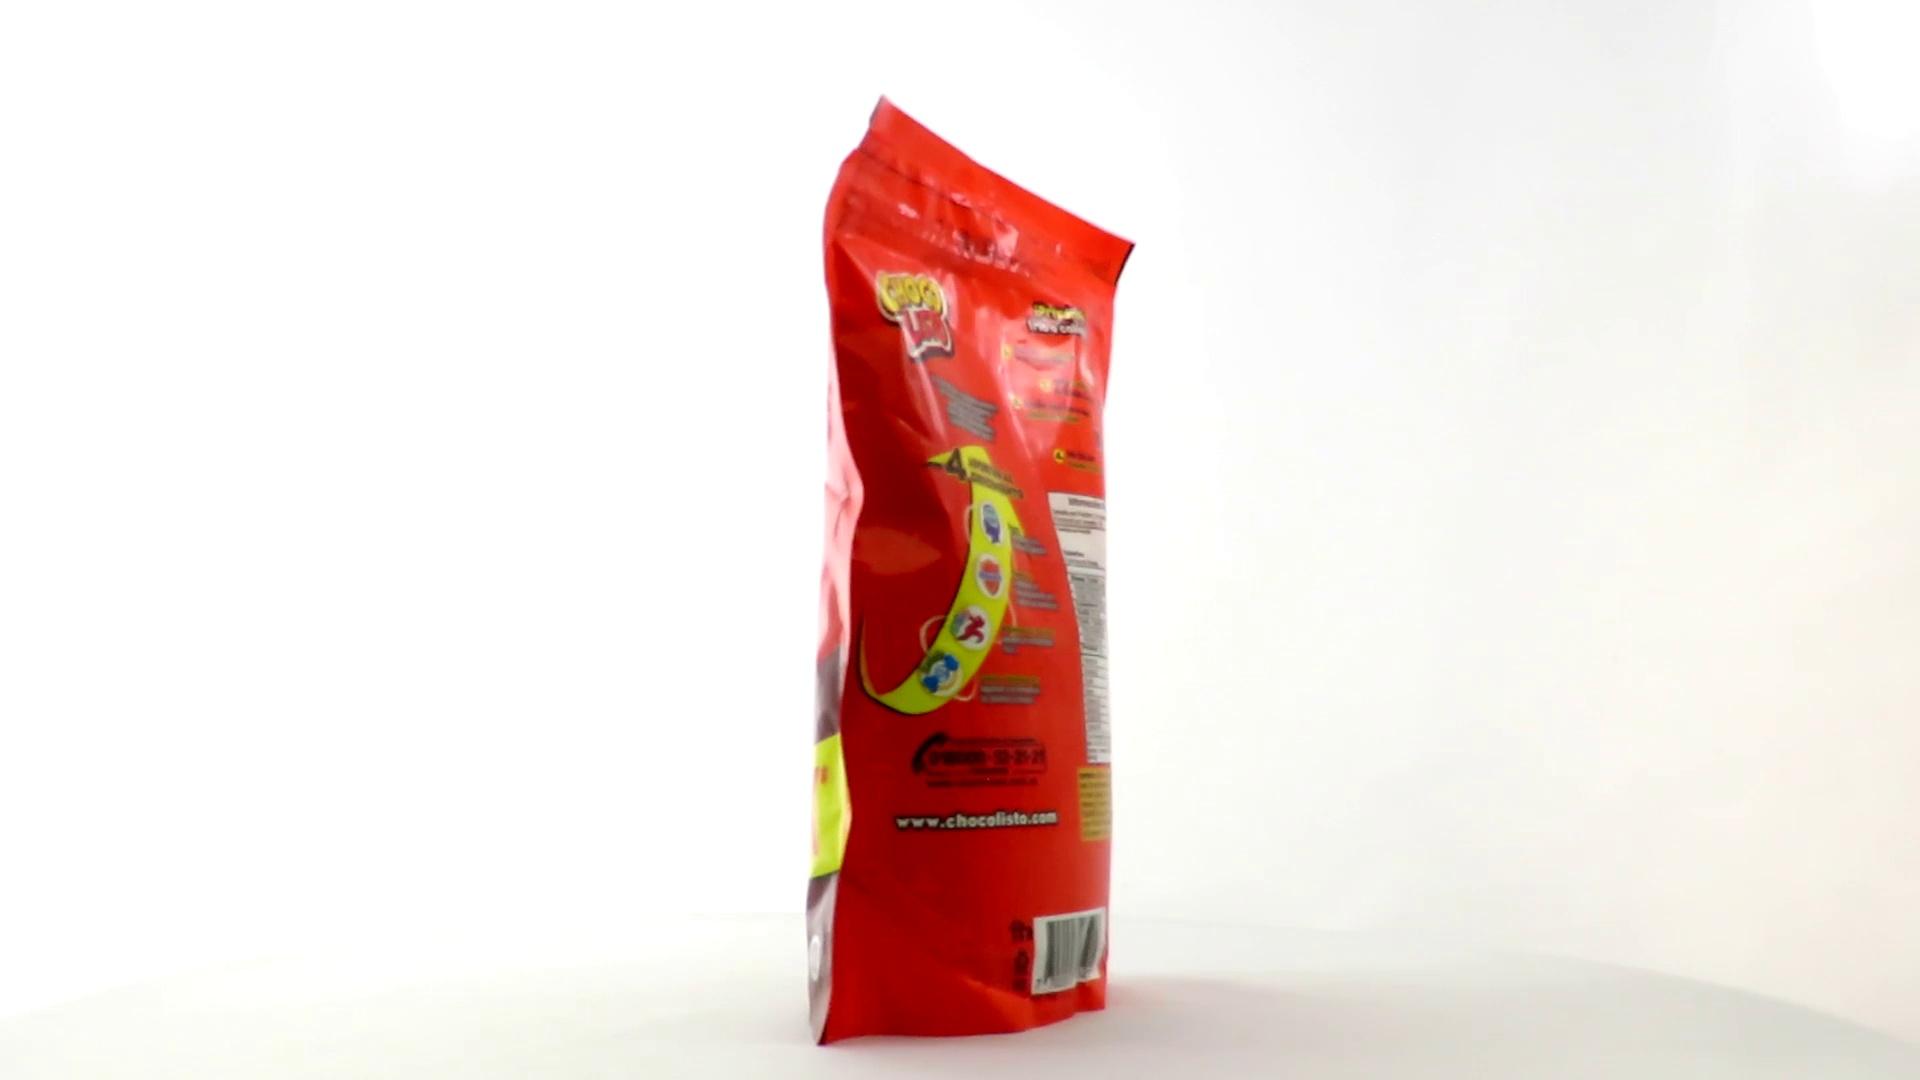COL0170103DYP36000: (800, 88, 1141, 1052)
